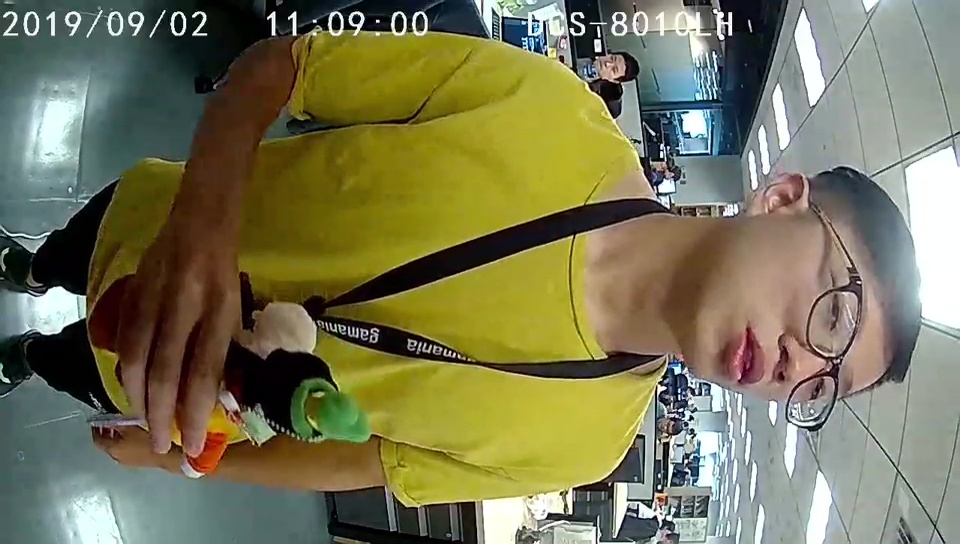goofy: (183, 338, 369, 478)
